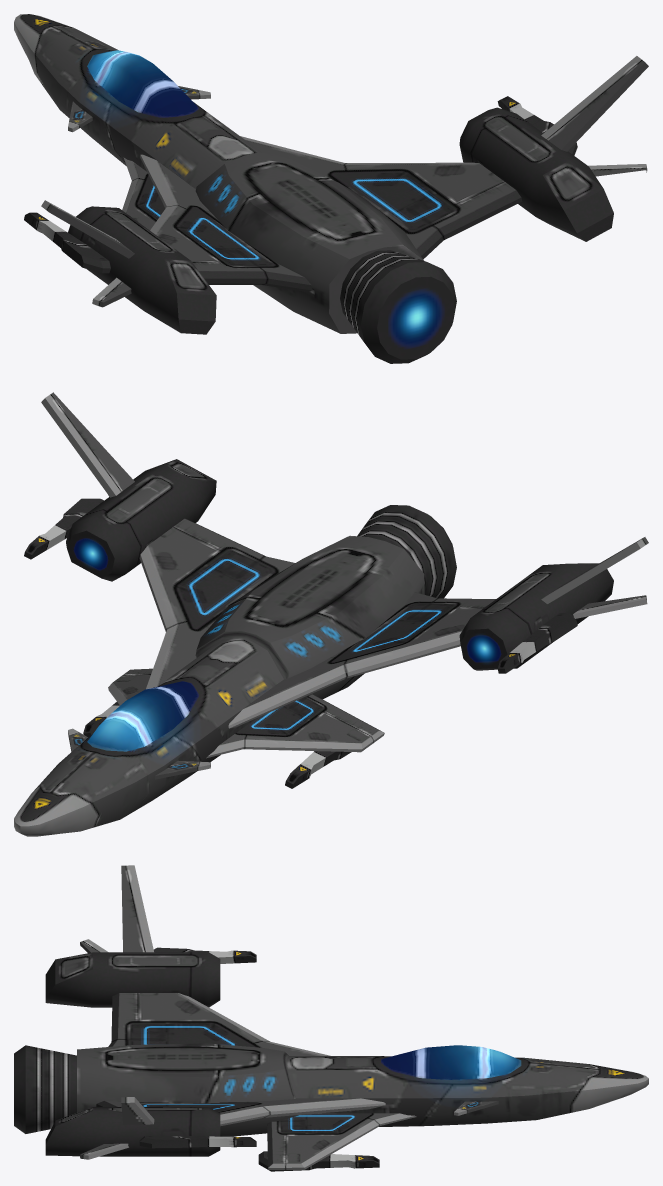
File: scout3.gltf
The picture shows the model from 3 angles, top to bottom: view 1: azimuth 30°, elevation 25°; view 2: azimuth 150°, elevation 25°; view 3: azimuth 270°, elevation 25°; orthographic projection. The views are drawn at different scales.
Visible parts, largest first — view 1: scout3; view 2: scout3; view 3: scout3.
Boxes of the visible parts, x1,y1,x2,y2 form: scout3: (14, 14, 648, 363); scout3: (14, 392, 648, 836); scout3: (14, 865, 648, 1171).
Size of the model in its own units: 9.49 by 2.81 by 10.85.
1 material, 1 textured.
